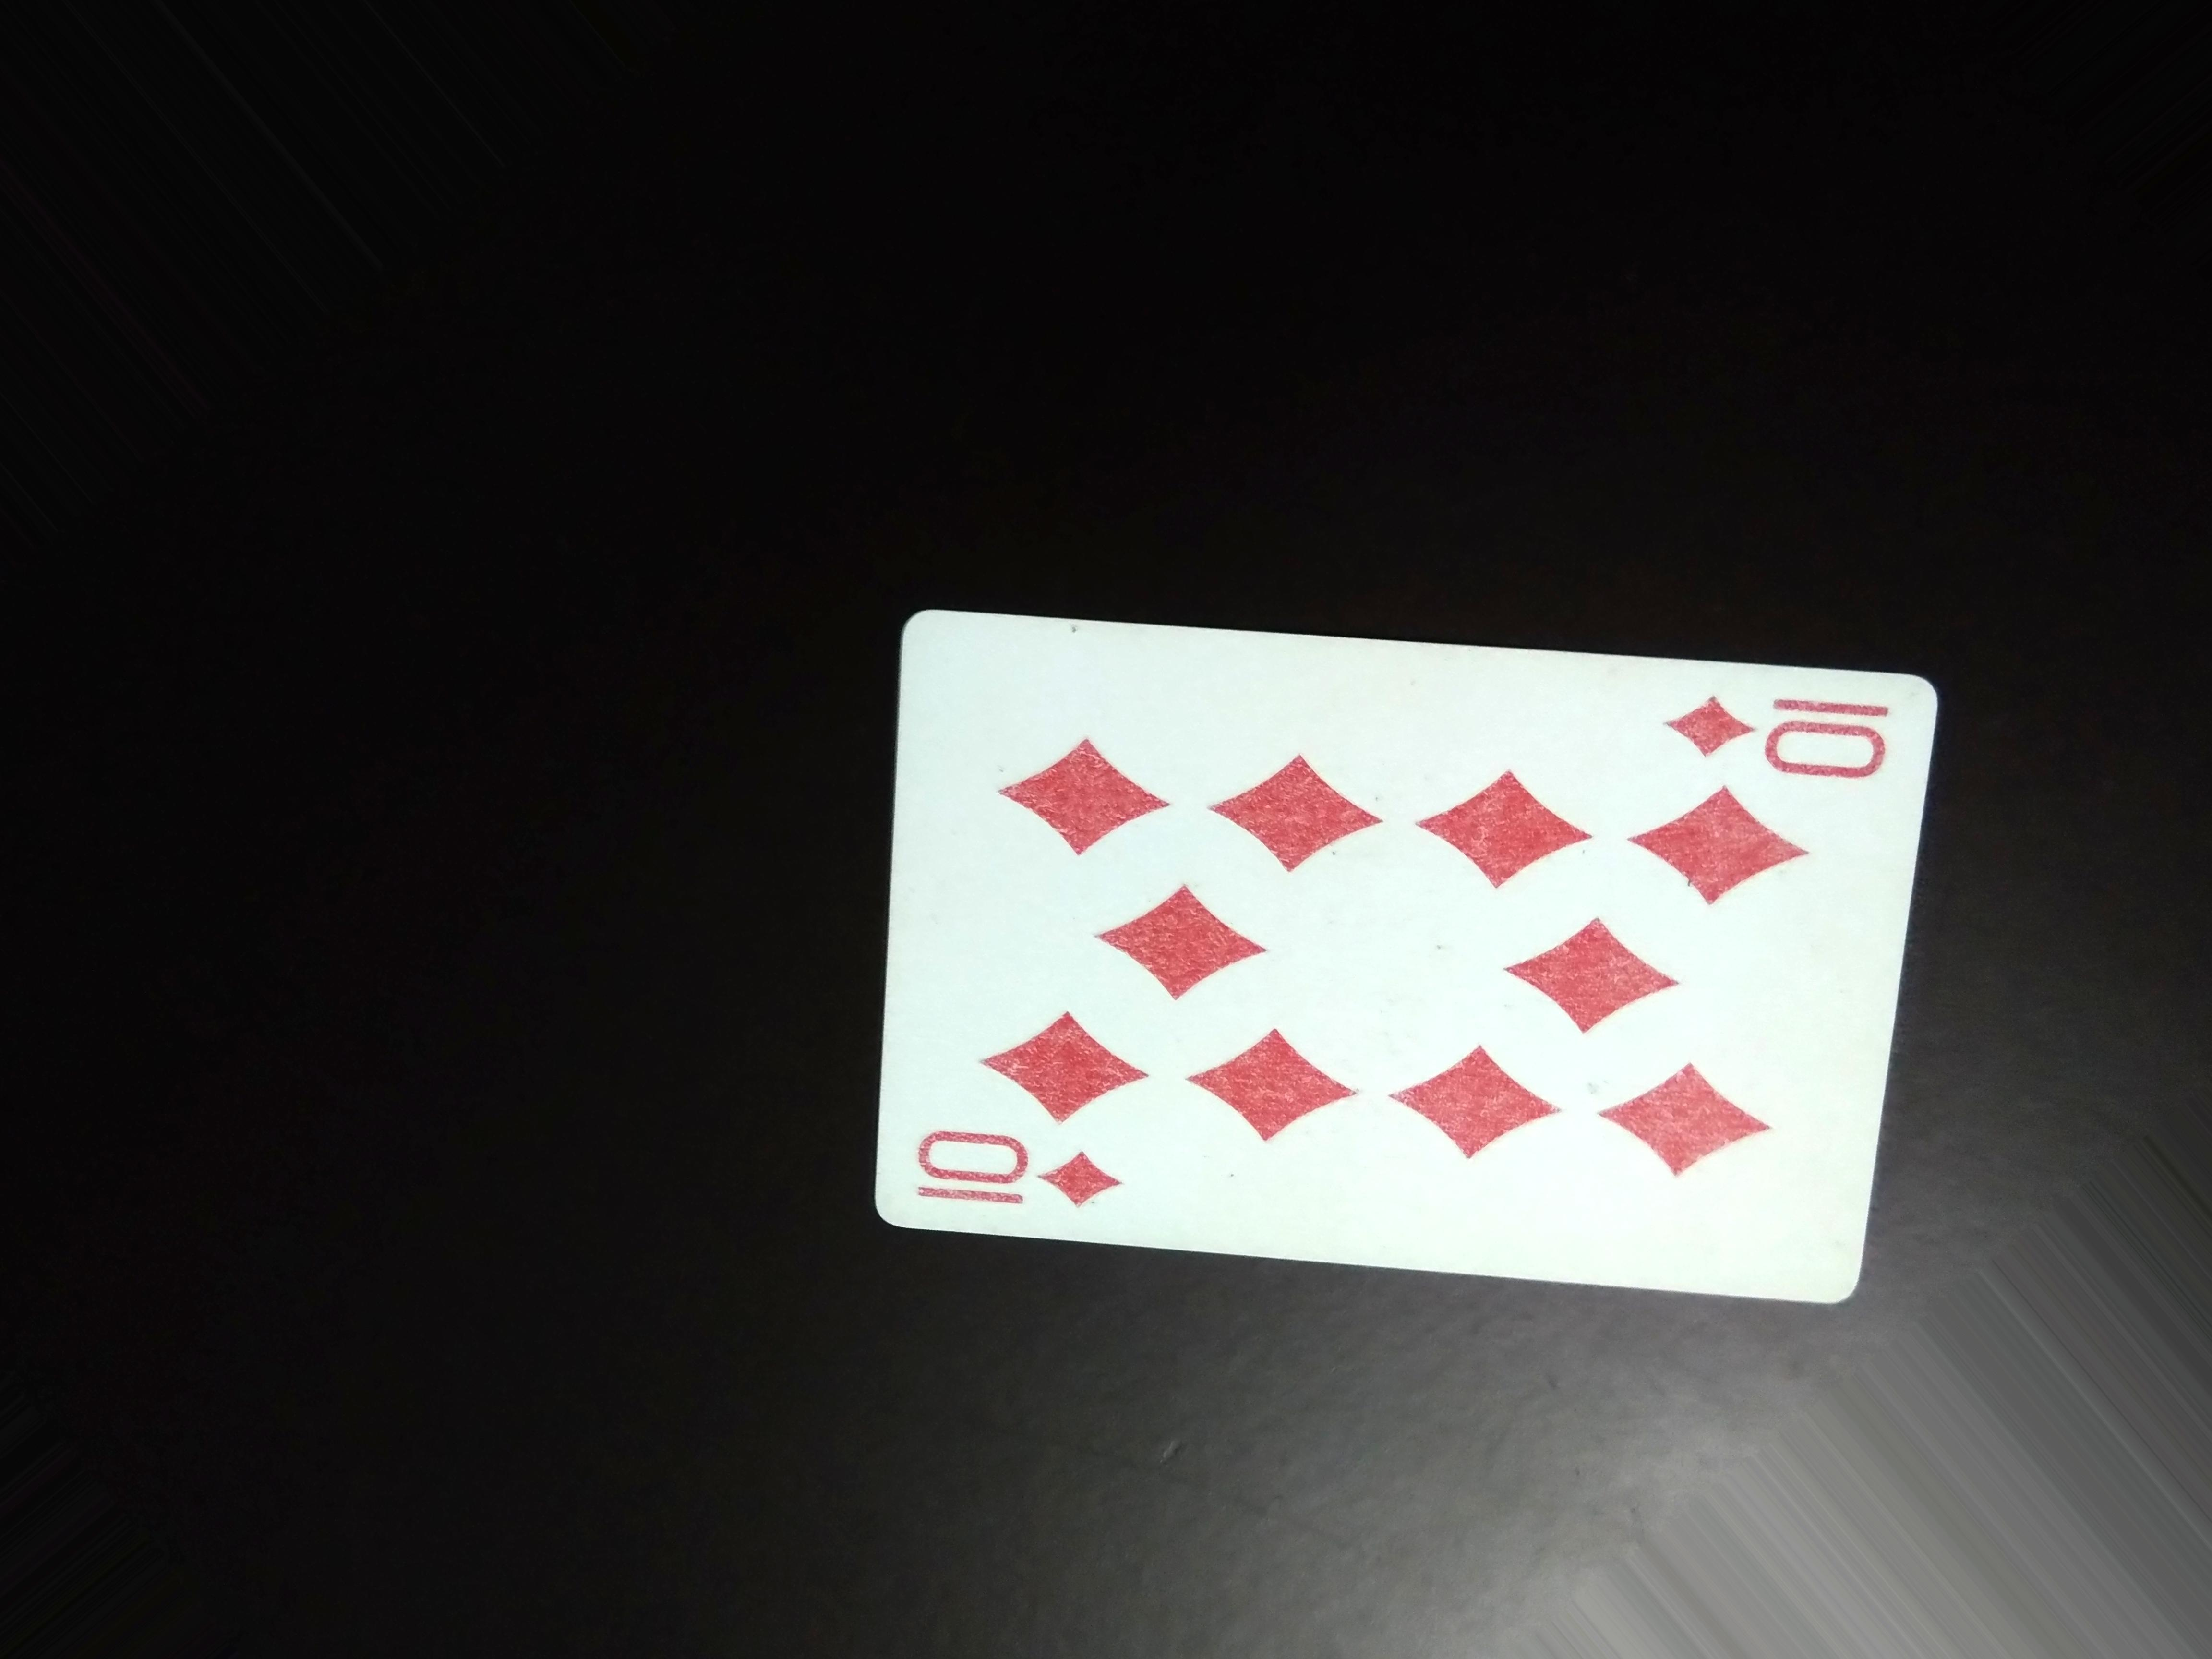10D: (887, 1117, 1157, 1227)
